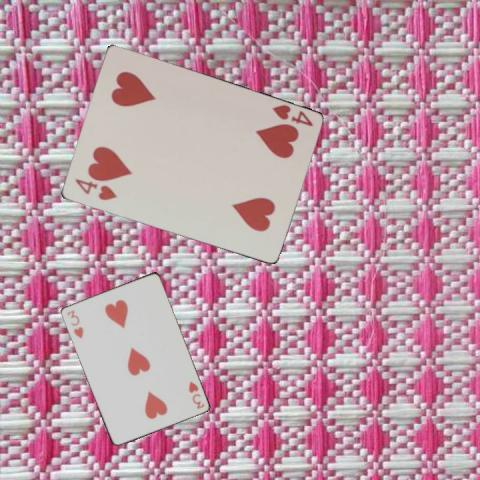3h: (64, 307, 85, 340), (186, 378, 206, 410)
4h: (72, 175, 118, 202), (268, 101, 314, 128)
